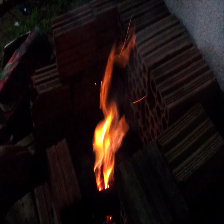fire_h: (93, 20, 137, 192)
fire_l: (132, 96, 147, 103), (107, 214, 112, 220)
